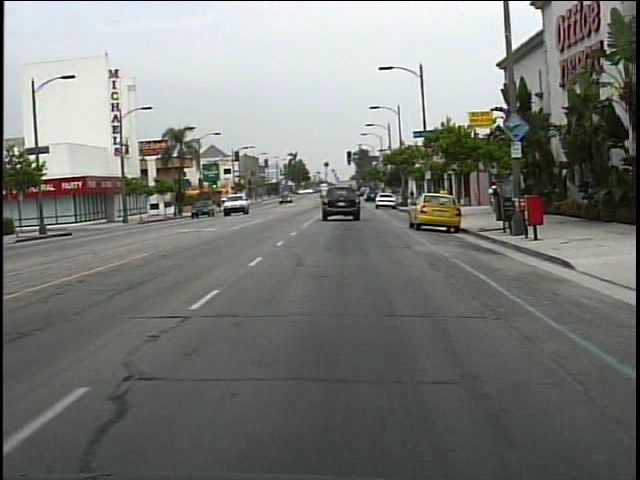person: (482, 178, 505, 221)
